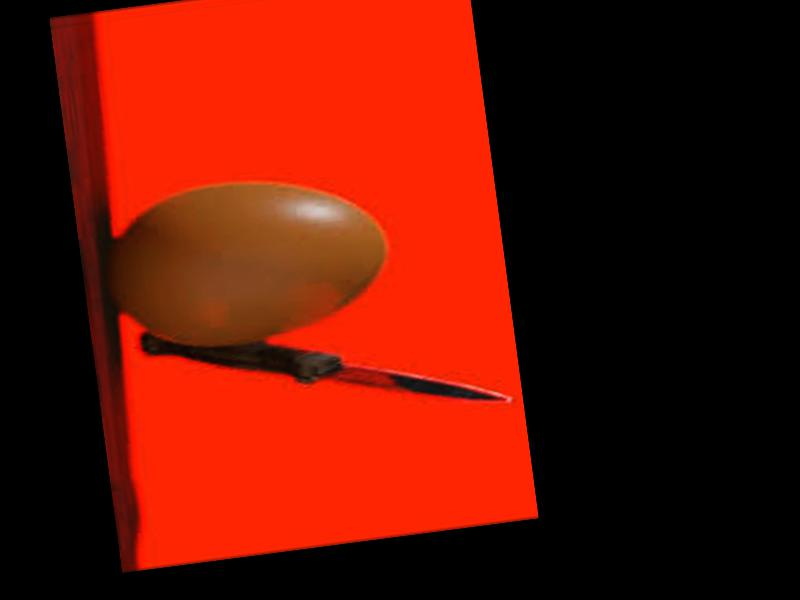Eggs: (103, 165, 394, 358)
